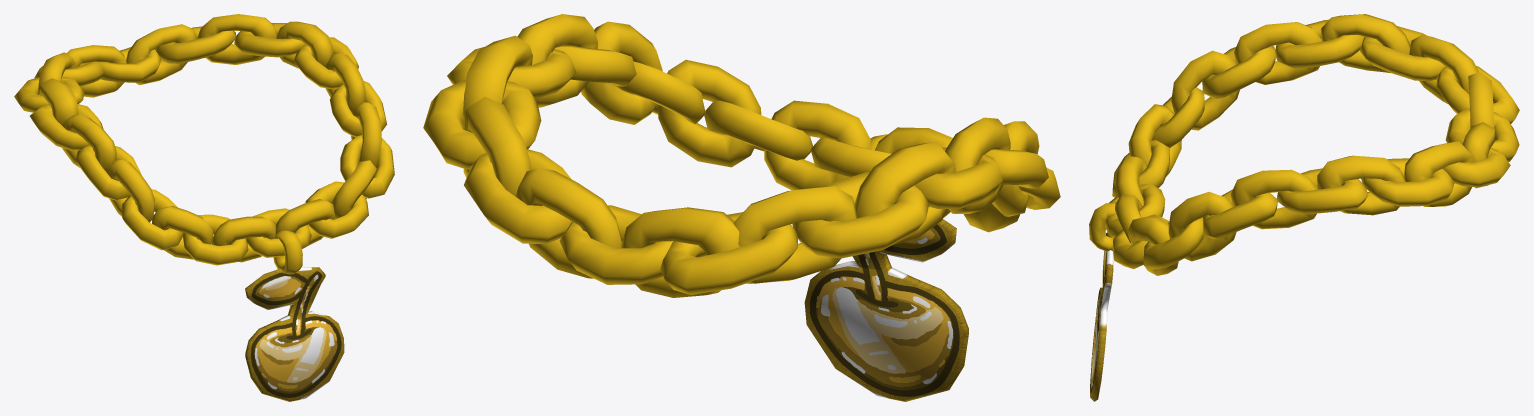
The model's file is CUChains.fbx.
3 views of the same model, side by side, from view 1: azimuth 30°, elevation 25°; view 2: azimuth 150°, elevation 25°; view 3: azimuth 270°, elevation 25° (orthographic). The views are drawn at different scales.
Visible parts, largest first — view 1: CherryChain, CherryPendant; view 2: CherryChain, CherryPendant; view 3: CherryChain, CherryPendant.
Boxes of the visible parts, x1,y1,x2,y2 form: CherryChain: (14,14,394,274); CherryPendant: (245,267,344,401); CherryChain: (423,14,1060,297); CherryPendant: (804,219,968,401); CherryChain: (1089,14,1519,275); CherryPendant: (1090,232,1113,401).
Size of the model in its own units: 113 by 91.15 by 115.
